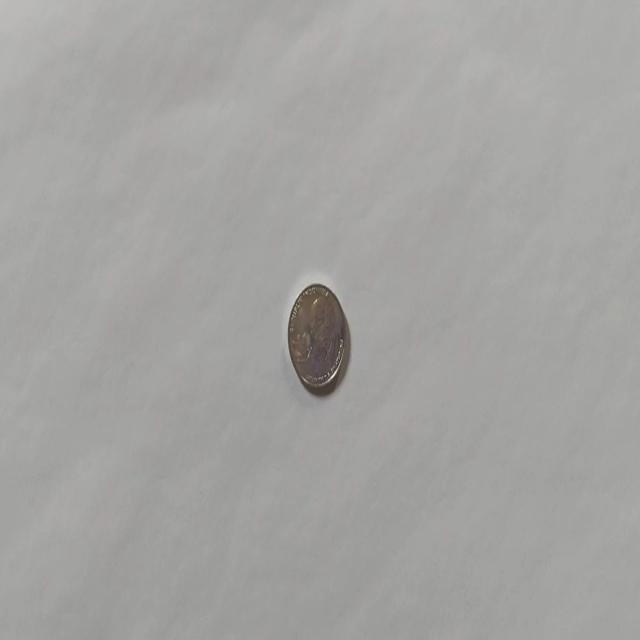lima ratus rupiah: (286, 281, 348, 392)
